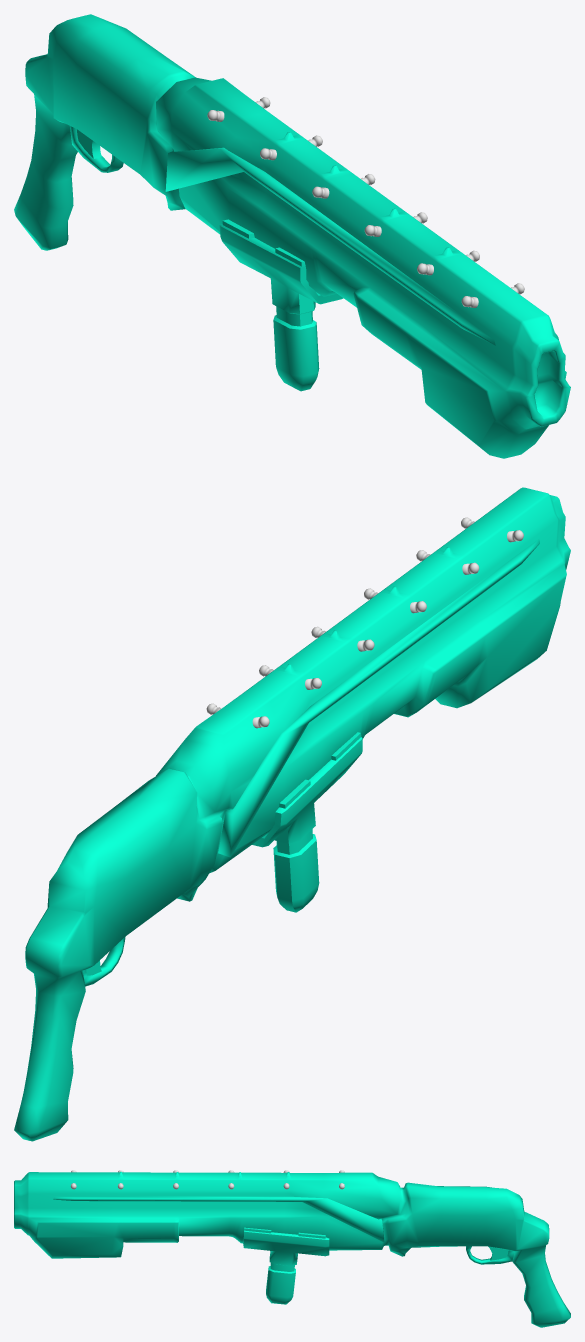
File: prop_shotguncoils 1.FBX
The picture shows the model from 3 angles, top to bottom: view 1: azimuth 30°, elevation 25°; view 2: azimuth 150°, elevation 25°; view 3: azimuth 270°, elevation 25°; orthographic projection. The views are drawn at different scales.
Visible parts, largest first — view 1: Object001, prop_shotgun_reload, Cylinder007; view 2: Object001, prop_shotgun_reload, Cylinder007; view 3: Object001, prop_shotgun_reload, Cylinder007.
Part boxes in pixels (x1,y1,x2,y2): Object001: [14, 14, 570, 458]; prop_shotgun_reload: [219, 219, 343, 391]; Cylinder007: [207, 97, 524, 307]; Object001: [14, 487, 570, 1141]; prop_shotgun_reload: [252, 732, 362, 912]; Cylinder007: [206, 517, 523, 728]; Object001: [14, 1171, 570, 1327]; prop_shotgun_reload: [243, 1227, 329, 1304]; Cylinder007: [70, 1170, 344, 1189].
Bounding box in the file's own units: 0.0697 × 0.2427 × 0.796.
